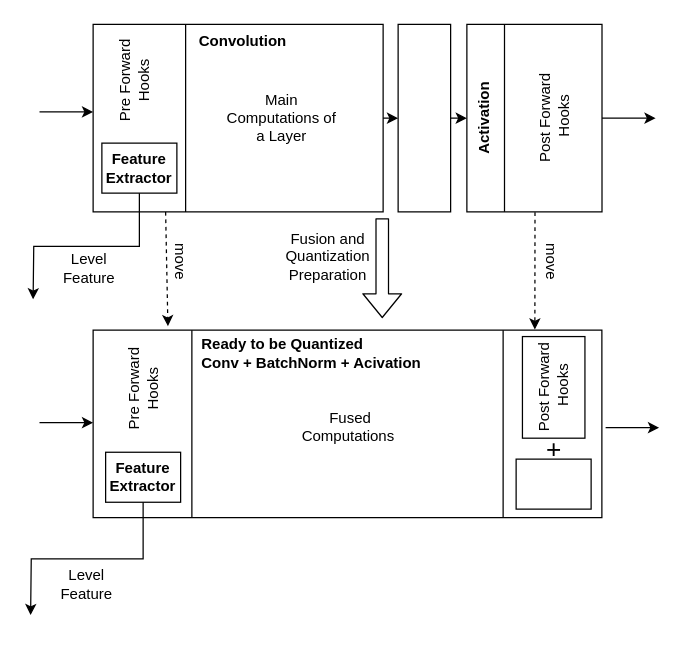
This 691x648 diagram has some shape labels left out. The shapes that lost their labels are listed below. From the top down, each one's box as (x1, y1, x2, y2) in pixels, then its label:
(397, 23, 451, 212): Batch Normalization
(515, 458, 591, 509): Quant Observer
